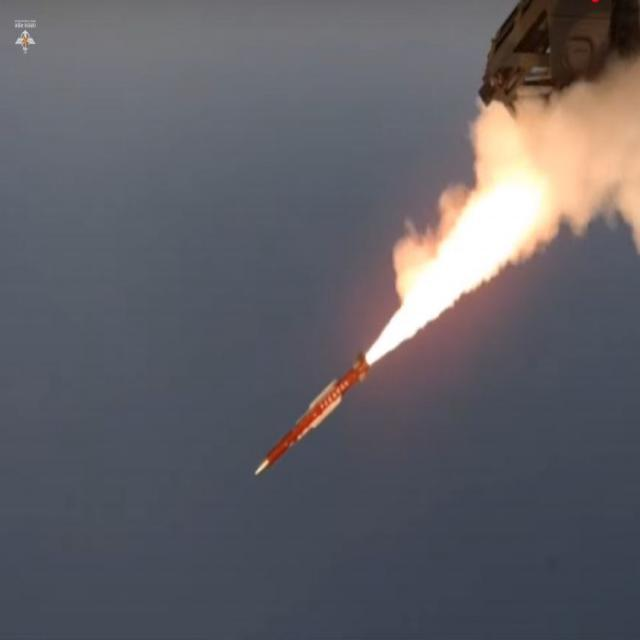missile: (252, 348, 372, 477)
